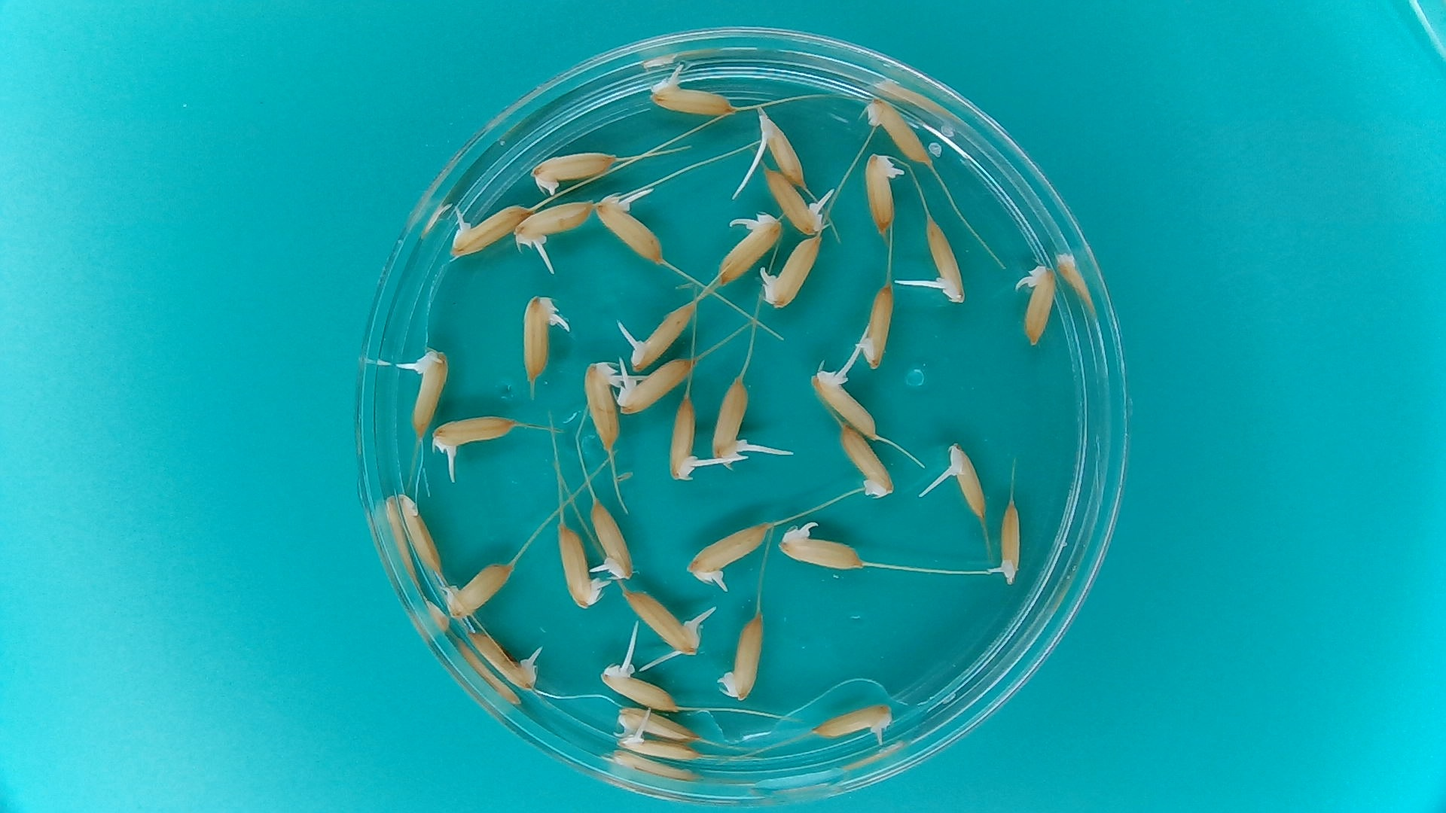no: (866, 99, 936, 168), (837, 425, 898, 501), (395, 490, 443, 576), (529, 150, 620, 195), (721, 613, 765, 705), (857, 277, 895, 374), (444, 559, 506, 617)
yes: (621, 579, 700, 656), (811, 367, 884, 442), (761, 234, 833, 308), (685, 517, 770, 579), (466, 627, 545, 693), (758, 171, 827, 243), (715, 211, 785, 281), (630, 297, 696, 370), (861, 148, 908, 247), (592, 200, 662, 266), (552, 520, 600, 612), (616, 358, 692, 416), (757, 112, 810, 195), (596, 666, 681, 717), (407, 351, 453, 444), (587, 502, 639, 584), (450, 208, 530, 260), (709, 374, 753, 464), (511, 199, 595, 246), (586, 357, 626, 452), (808, 705, 904, 744), (928, 212, 968, 303), (779, 531, 862, 574), (517, 294, 558, 380), (616, 729, 704, 769), (943, 445, 987, 525), (644, 81, 735, 118), (430, 412, 518, 450), (1022, 261, 1059, 348), (615, 705, 703, 741), (666, 393, 700, 483), (991, 500, 1025, 589)
